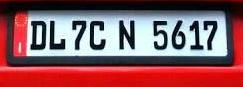1: (188, 20, 203, 49)
5: (151, 19, 167, 49)
6: (170, 19, 186, 49)
7: (201, 19, 218, 50), (70, 19, 86, 50)
C: (88, 19, 106, 50)
D: (28, 19, 47, 50)
L: (48, 19, 65, 49)
N: (117, 19, 135, 50)
